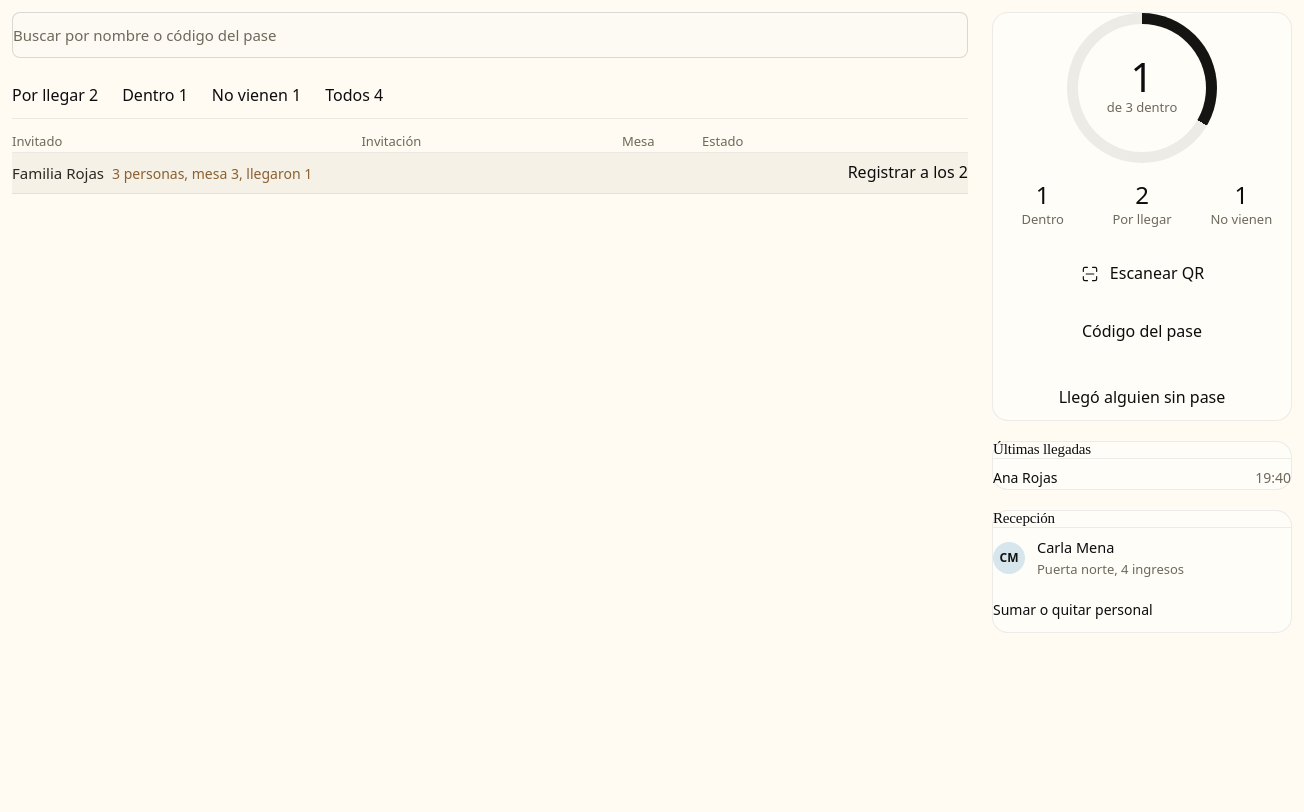
Test case: ControlDeIngreso · alguien ya lo registró › si el servidor dice que la invitación está anulada, lo dice y no la marca dentro
Click the button "Familia Rojas 3 personas, mesa 3, llegaron 1" at [162, 173], box x1=12 y1=161 x2=312 y2=185
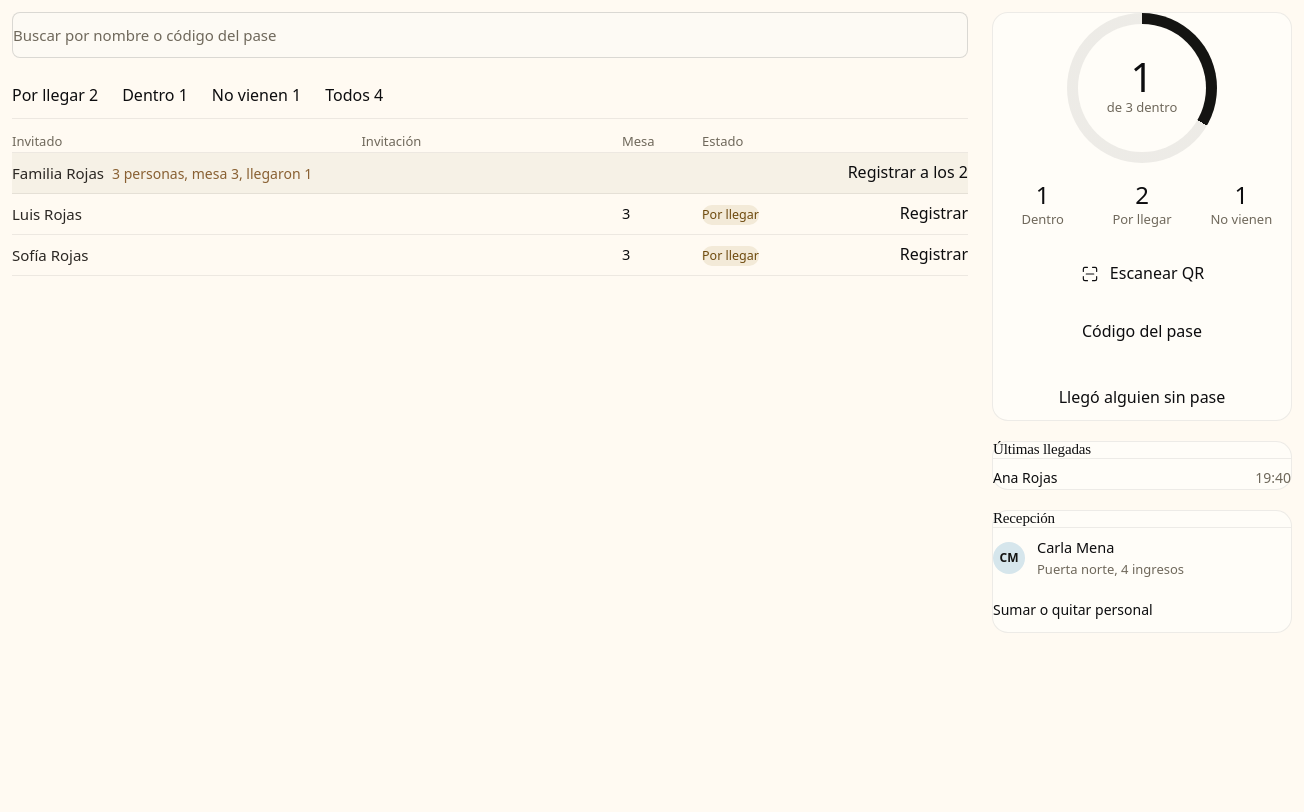
Click the button "Registrar" in the row of "Luis Rojas" at [934, 214], box x1=900 y1=194 x2=968 y2=234
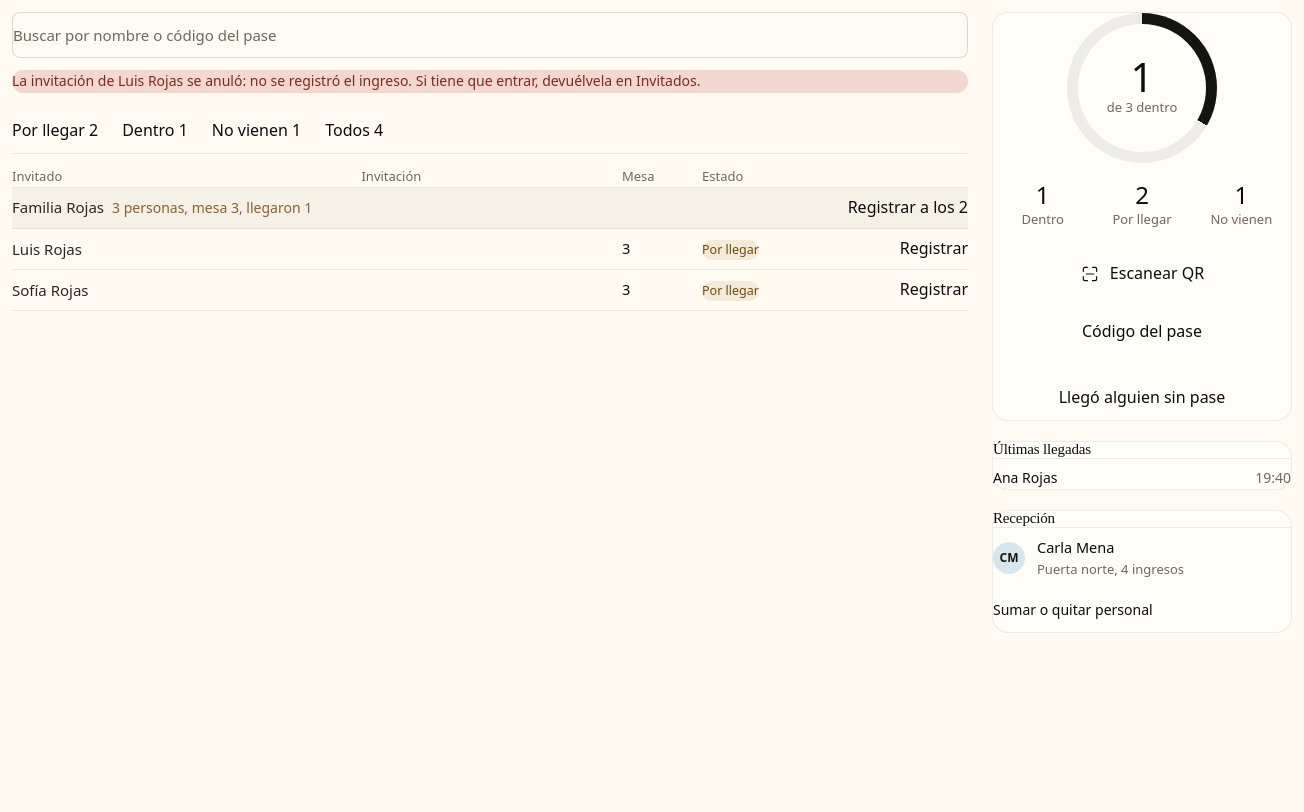
expect the row "Luis Rojas" does not show "dentro": met, box x1=12 y1=229 x2=968 y2=270
expect the message shows "se anuló": met, box x1=12 y1=71 x2=700 y2=90
